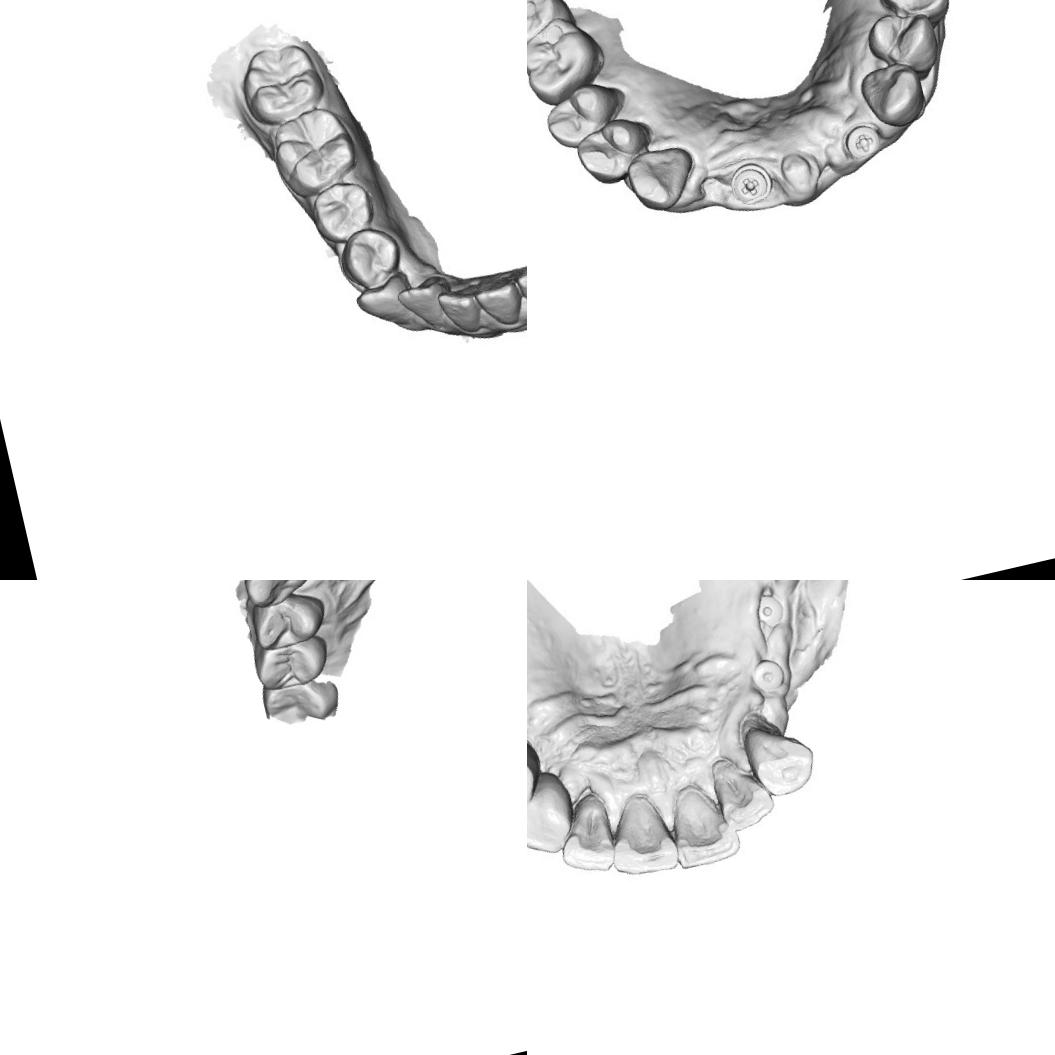canine: (740, 708, 818, 796), (856, 55, 930, 136), (621, 142, 700, 216), (527, 766, 583, 856), (354, 271, 426, 334), (234, 580, 320, 612)
implant: (744, 647, 792, 702), (749, 588, 785, 632)
implant_plus: (726, 158, 774, 210), (838, 118, 886, 168)
incisor: (662, 766, 742, 868), (602, 786, 682, 878), (547, 789, 626, 878), (708, 745, 776, 836), (399, 270, 460, 337), (475, 272, 527, 332), (438, 279, 492, 334)
molar: (266, 104, 365, 194), (527, 11, 614, 111), (236, 36, 322, 118), (527, 0, 580, 44)
premolar: (569, 112, 659, 192), (862, 3, 946, 86), (540, 78, 630, 150), (249, 632, 337, 698), (248, 590, 331, 655), (312, 178, 376, 240), (337, 226, 400, 287), (873, 0, 955, 30)
